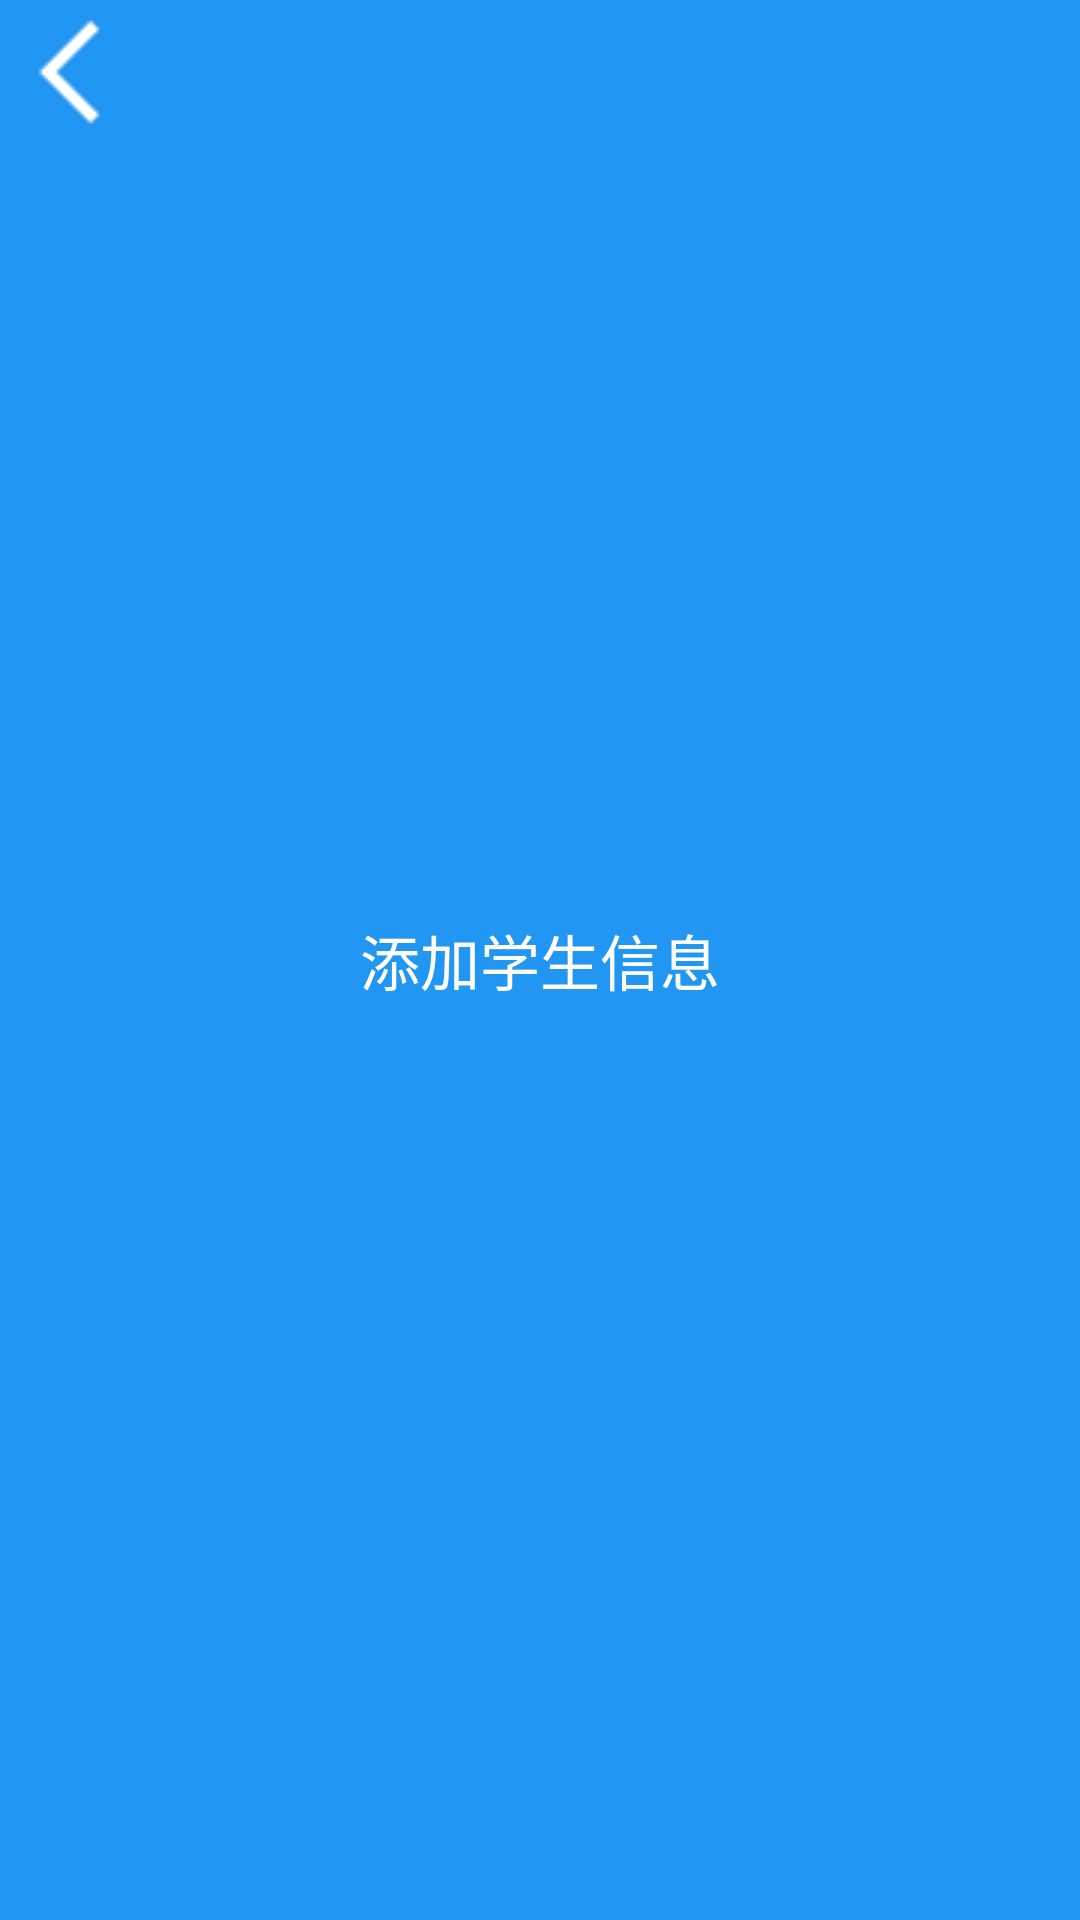

Icon click points for this 1080px×1920px phone screenshot, format point (x, y):
left: point (69, 72)
